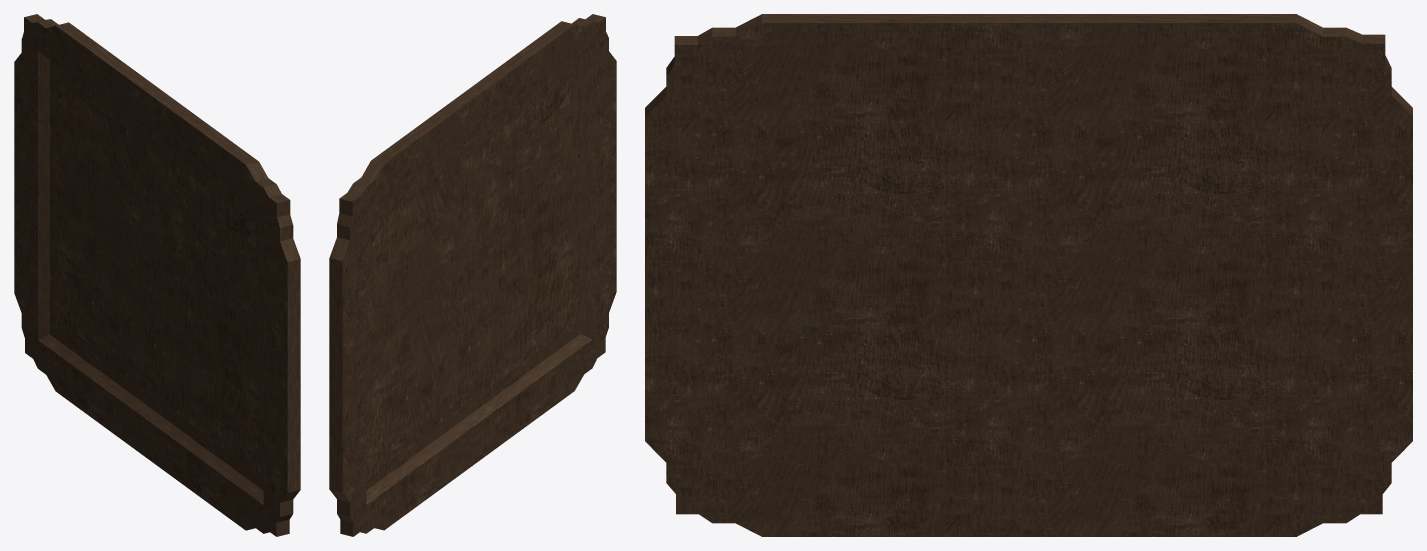
The model's file is GameJam Bilderrahmen  .fbx.
3 renders of one model, left to right at view 1: azimuth 30°, elevation 25°; view 2: azimuth 150°, elevation 25°; view 3: azimuth 270°, elevation 25°, orthographic. The views are drawn at different scales.
Visible parts, largest first — view 1: Bilderrahmen; view 2: Bilderrahmen; view 3: Bilderrahmen.
Part boxes in pixels (x1,y1,x2,y2): Bilderrahmen: (14, 14, 300, 536); Bilderrahmen: (329, 14, 616, 536); Bilderrahmen: (645, 14, 1412, 536).
Bounding box in the file's own units: 4.88 × 129 × 174.
1 material, 1 textured.
